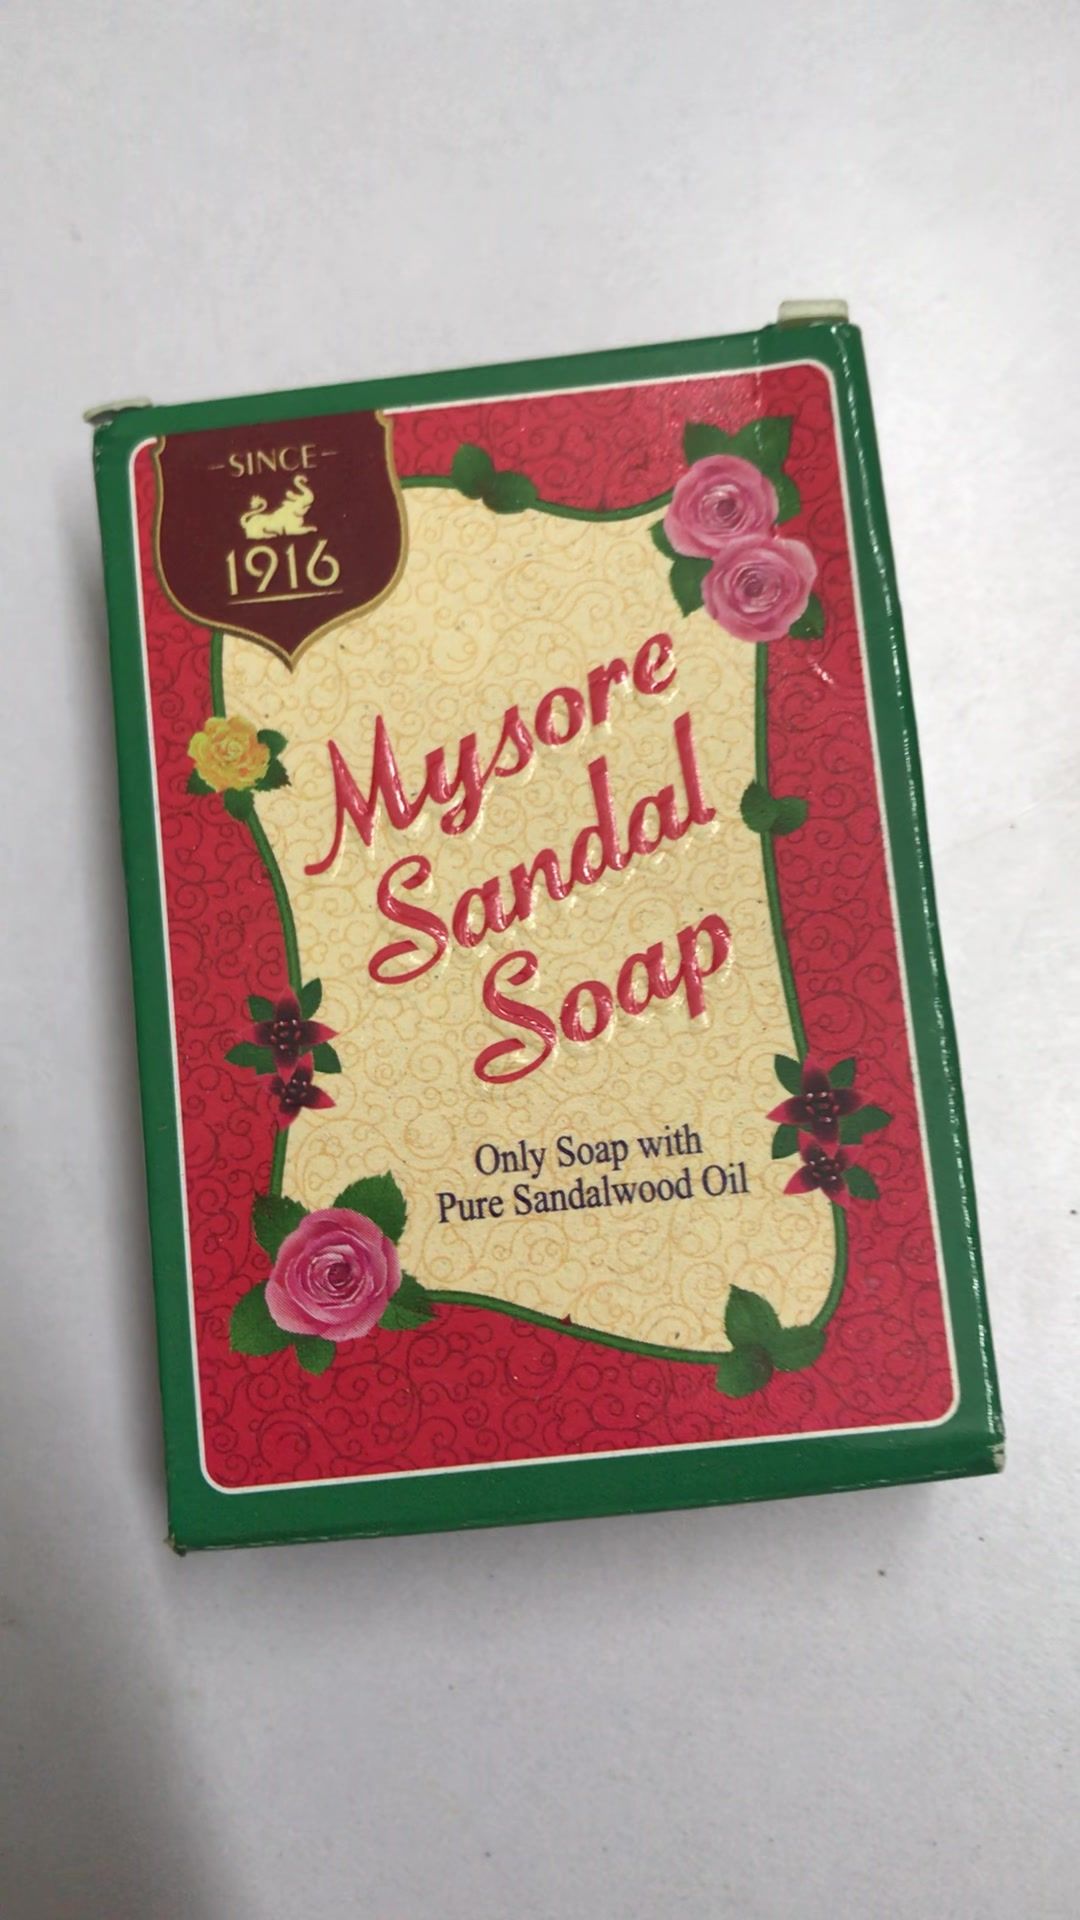mysore sandal soap: (90, 298, 1005, 1552)
